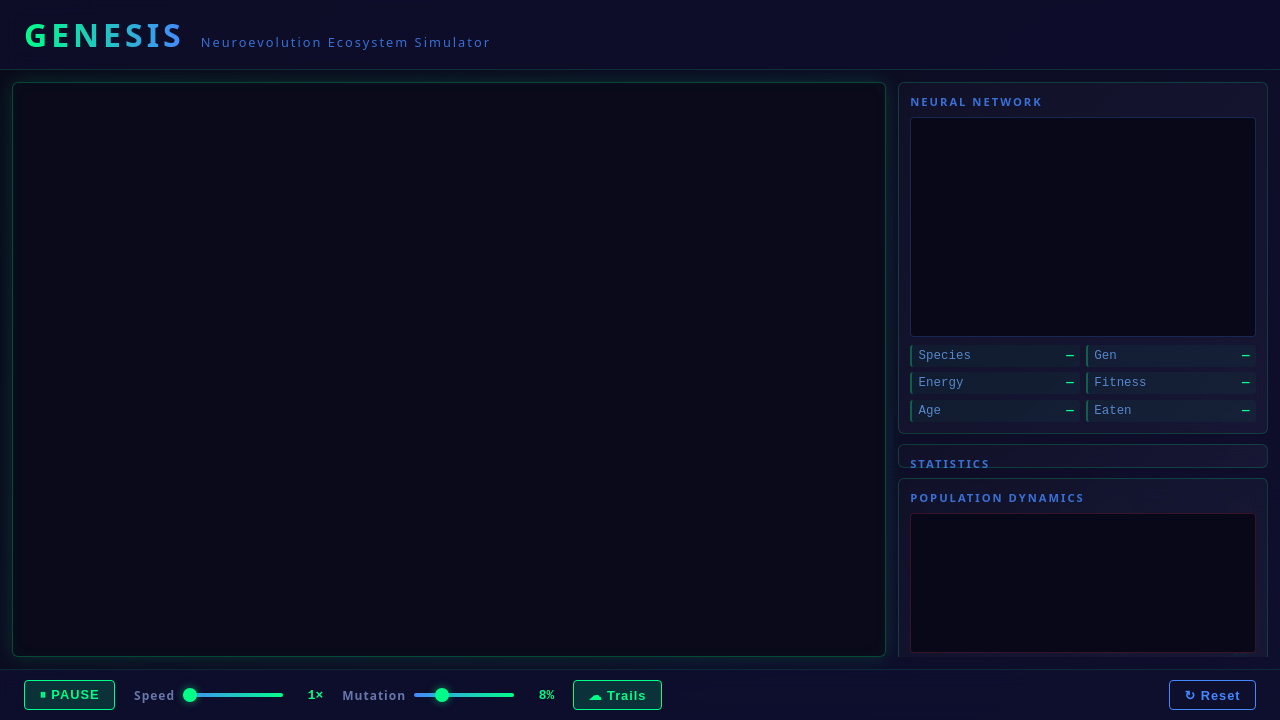
it: App › toggles pause on button click
What coordinates should you click on to do the following:
click the button "⏸ PAUSE"
I would click on:
 (69, 695)
Its box is [24,680,115,710].
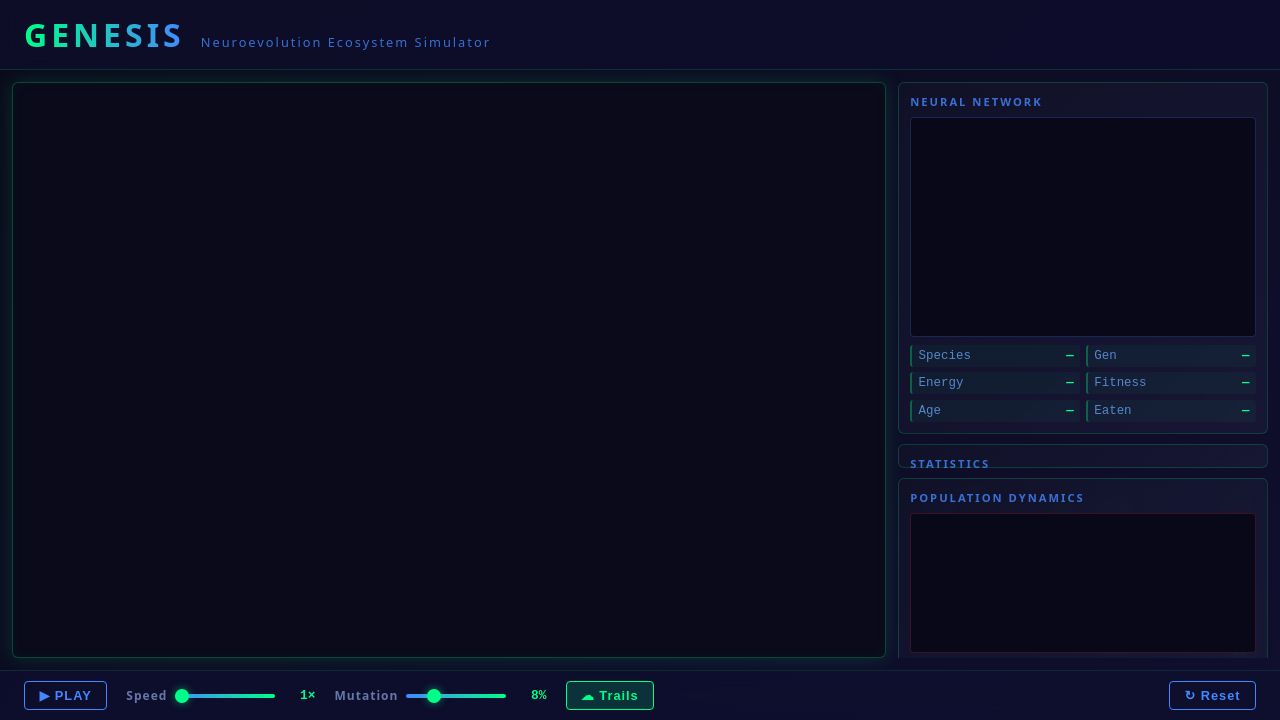
Now the button "▶ PLAY" is shown, box [24,681,107,710]
